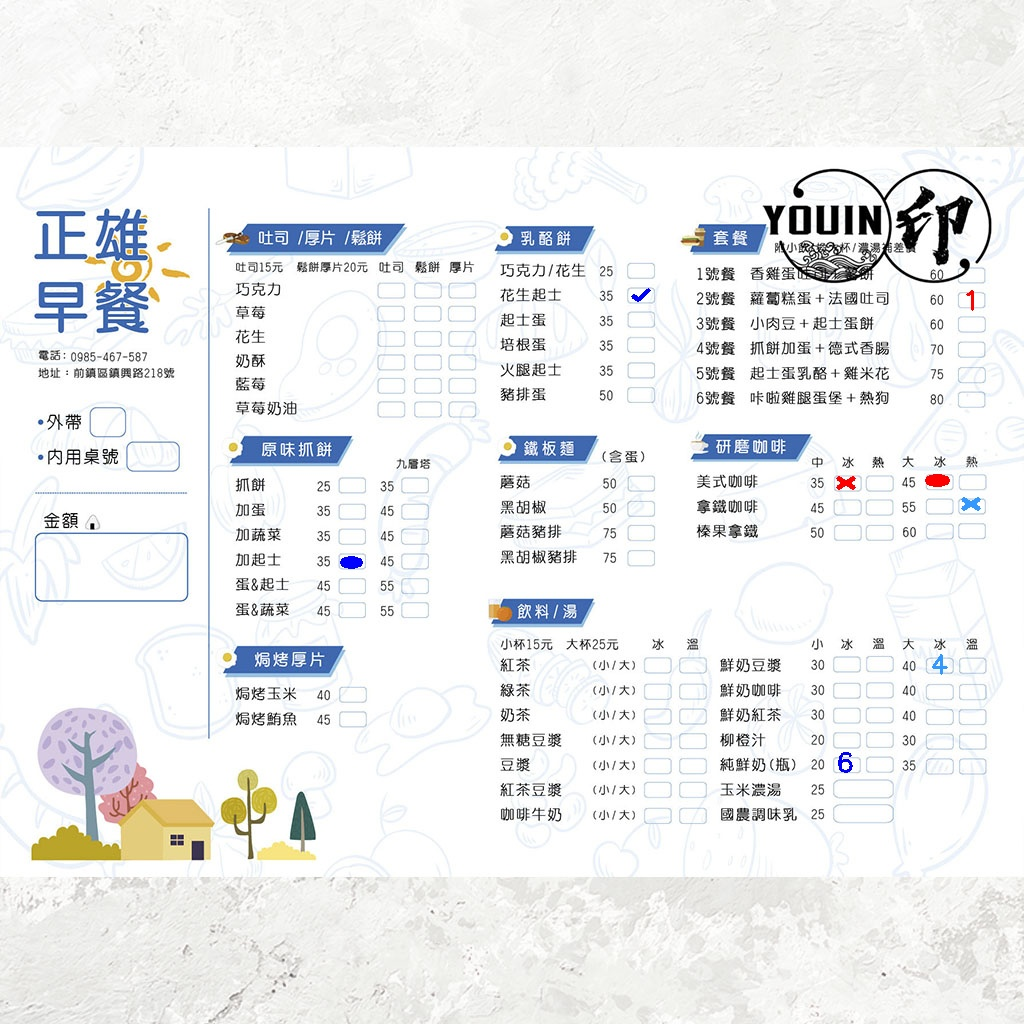marked_item: (958, 497, 984, 511), (628, 288, 654, 302), (925, 474, 951, 488), (832, 755, 858, 769), (833, 476, 859, 490), (337, 554, 363, 568), (926, 657, 952, 671), (958, 293, 984, 307)
